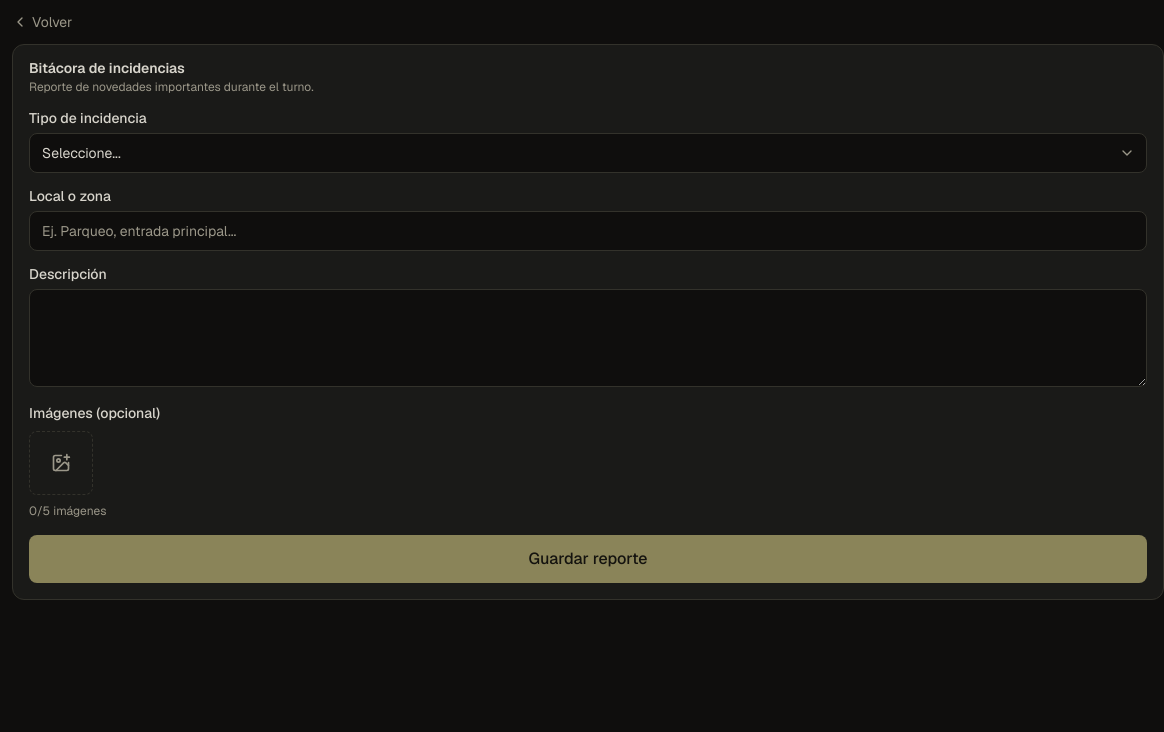
Scenario: IncidentLogForm › muestra el campo de detalle al seleccionar el tipo Otro
Select "Otro" in the dropdown labelled "Tipo de incidencia" at (588, 153), box [29,133,1147,173]
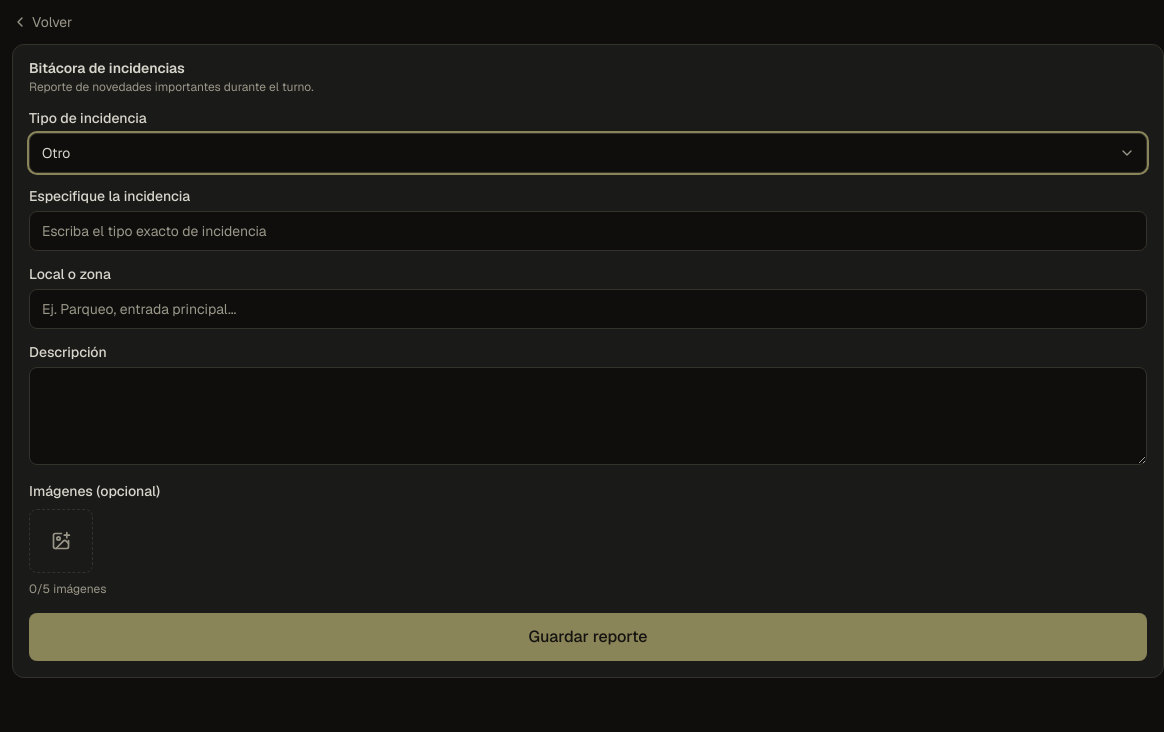
expect the field labelled "Especifique la incidencia" is shown: met, box [29,211,1147,251]
